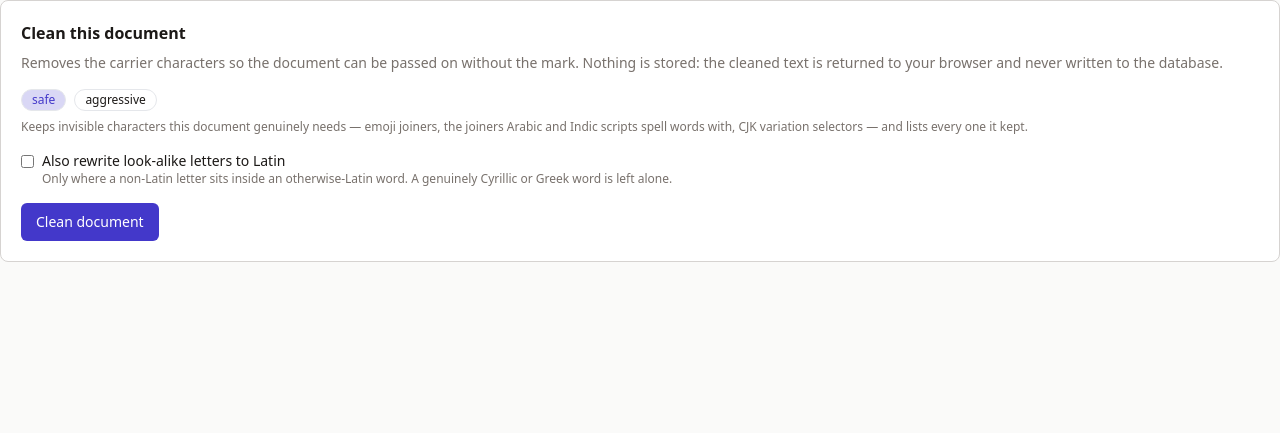
Test case: SanitizePanel › reports removals, replacements and what it deliberately kept
This screenshot has width=1280, height=433.
Click the button "Clean document": (90, 222) [21, 203, 159, 241]
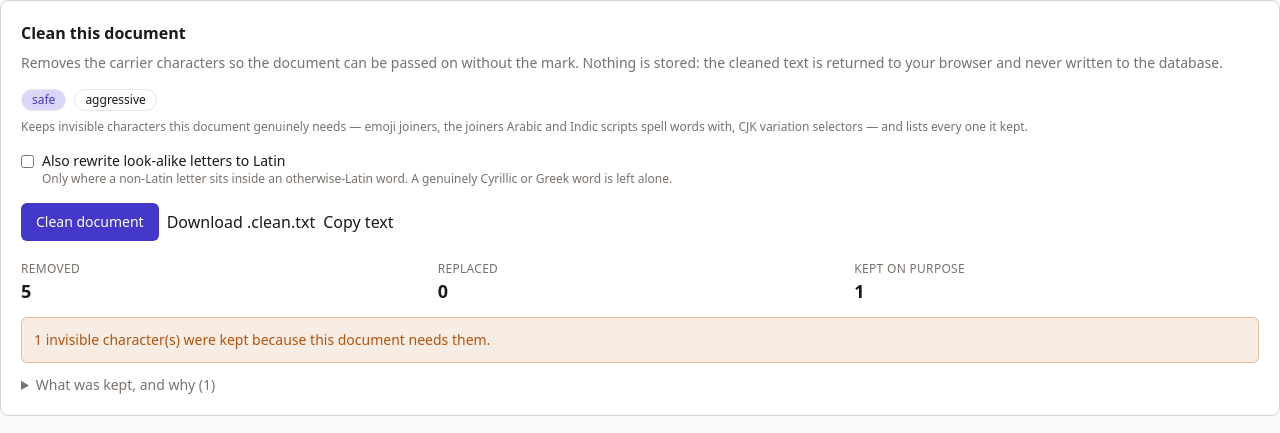
Result: the text "5" is shown at [21, 279, 31, 303]
Result: the text "Kept on purpose" is shown at [854, 260, 965, 277]
Result: the text "kept because this document needs them" is shown at [34, 330, 490, 349]
